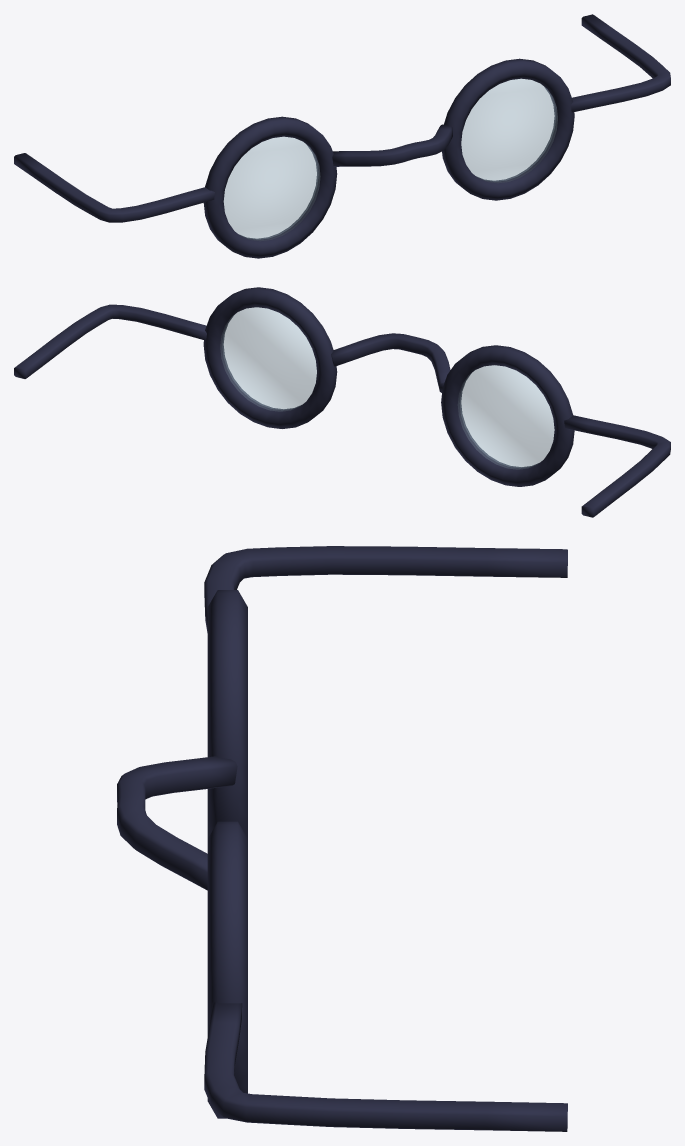
File: round_glasses-dog.glb
The picture shows the model from 3 angles, top to bottom: view 1: azimuth 30°, elevation 25°; view 2: azimuth 150°, elevation 25°; view 3: azimuth 270°, elevation 25°; orthographic projection. The views are drawn at different scales.
Parts seen in each view (by area): view 1: lens, lens.001, rim.001, rim, temple.001, temple, bridge; view 2: lens.001, lens, rim, rim.001, temple, temple.001, bridge; view 3: temple, temple.001, rim.001, rim, bridge.
Part boxes in pixels (<box>): lens: <box>461,78,557,182</box>; lens.001: <box>223,136,320,240</box>; rim.001: <box>203,116,337,258</box>; rim: <box>442,58,574,200</box>; temple.001: <box>14,153,214,222</box>; temple: <box>571,14,670,112</box>; bridge: <box>332,124,452,166</box>; lens.001: <box>458,365,554,469</box>; lens: <box>220,307,316,411</box>; rim: <box>203,287,337,428</box>; rim.001: <box>441,345,574,486</box>; temple: <box>14,304,206,378</box>; temple.001: <box>564,415,670,517</box>; bridge: <box>331,333,450,392</box>; temple: <box>204,1002,567,1131</box>; temple.001: <box>204,546,567,632</box>; rim.001: <box>207,590,247,838</box>; rim: <box>207,821,247,1118</box>; bridge: <box>117,756,237,890</box>.
Size of the model in its own units: 1.33 by 0.2946 by 0.4471.
